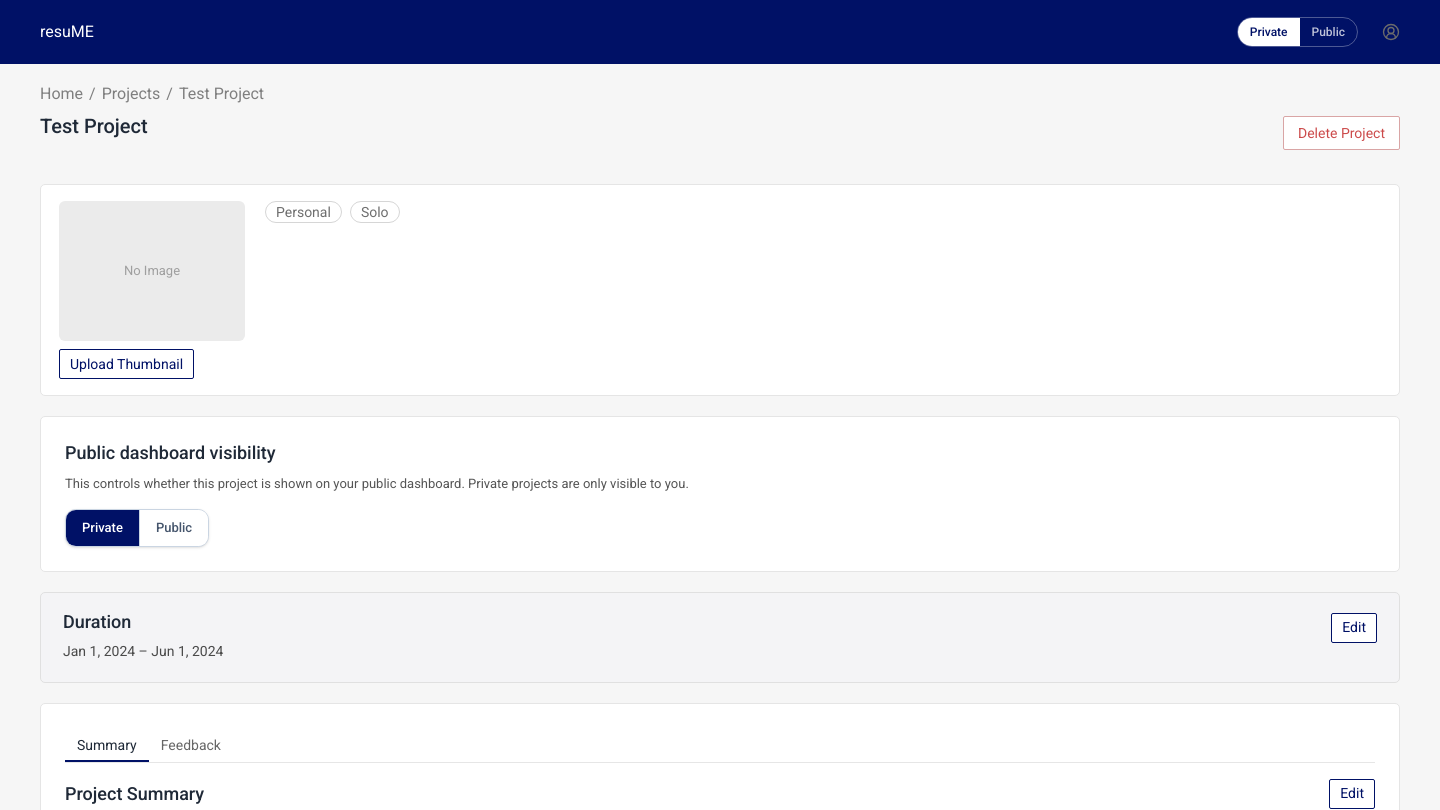
Test case: ProjectDetailPage › project content › shows "No feedback available" when feedback is empty
Click the button "Feedback": click(191, 745) [149,728,233,762]
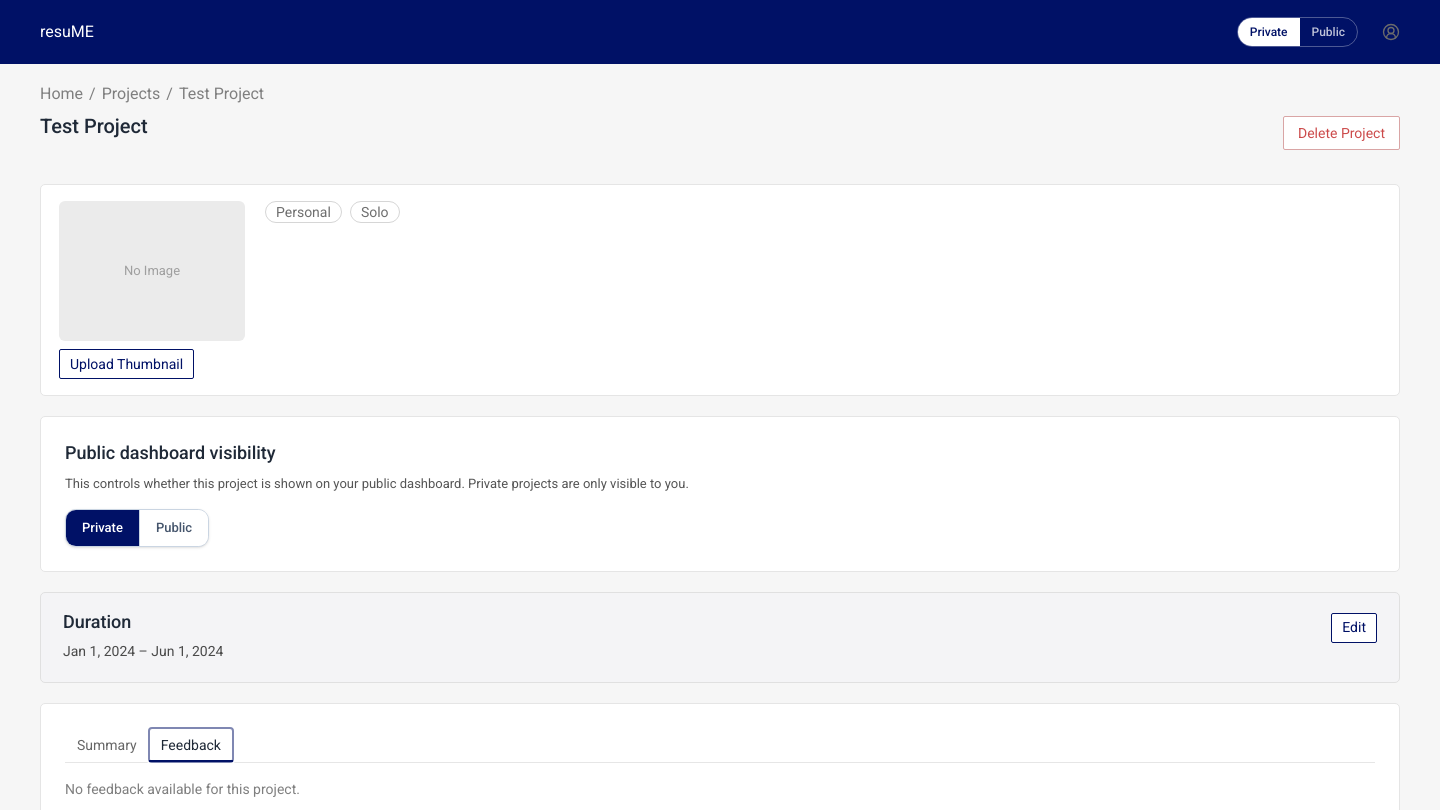
Now the text "No feedback available for this project." is shown, box [65,781,300,797]
